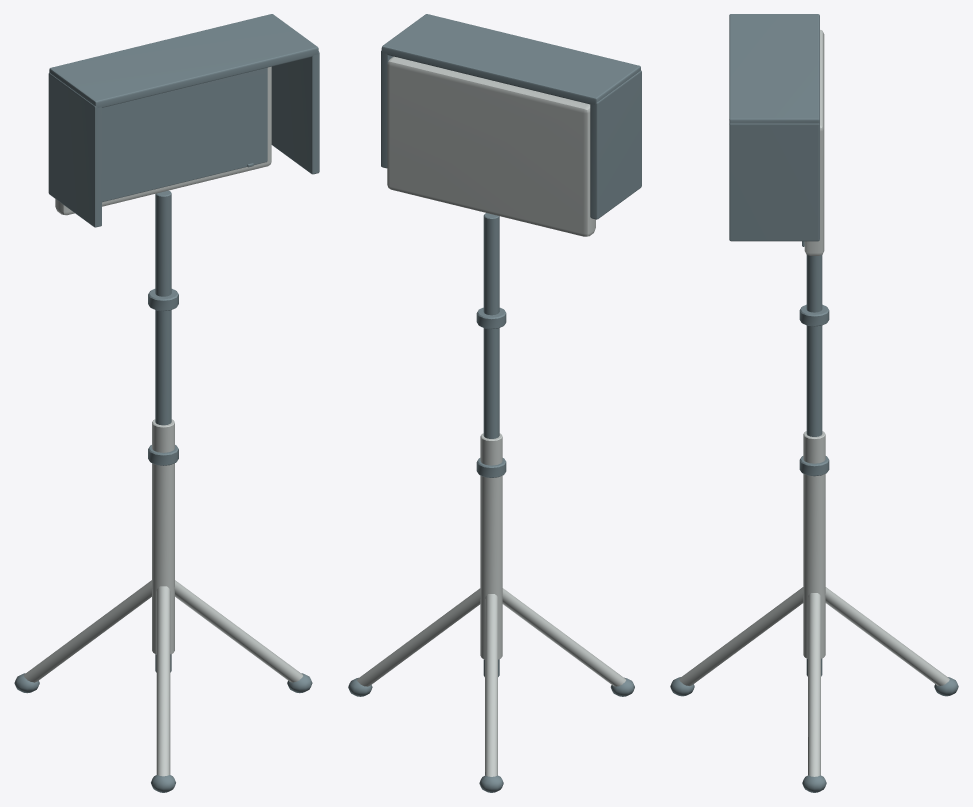
The model's file is field-monitor.glb.
3 renders of one model, left to right at view 1: azimuth 30°, elevation 25°; view 2: azimuth 150°, elevation 25°; view 3: azimuth 270°, elevation 25°, orthographic. The views are drawn at different scales.
Visible parts, largest first — view 1: monitor_screen, sun_hood_roof, sun_hood_side, sun_hood_side.001, lower_stand, telescoping_stand, tripod_leg_1, tripod_leg_0, tripod_leg_2, monitor_housing; view 2: monitor_housing, sun_hood_roof, sun_hood_side, lower_stand, telescoping_stand, tripod_leg_2, tripod_leg_1, tripod_leg_0, sun_hood_side.001; view 3: sun_hood_side.001, sun_hood_roof, lower_stand, telescoping_stand, tripod_leg_0, tripod_leg_1, tripod_leg_2, monitor_housing.
Part boxes in pixels (<box>): monitor_screen: <box>102,67,267,202</box>; sun_hood_roof: <box>49,14,318,107</box>; sun_hood_side: <box>48,72,101,227</box>; sun_hood_side.001: <box>271,51,319,174</box>; lower_stand: <box>152,419,174,654</box>; telescoping_stand: <box>155,190,171,672</box>; tripod_leg_1: <box>156,586,170,776</box>; tripod_leg_0: <box>174,580,302,682</box>; tripod_leg_2: <box>24,580,152,682</box>; monitor_housing: <box>55,66,271,215</box>; monitor_housing: <box>387,56,595,236</box>; sun_hood_roof: <box>381,14,640,104</box>; sun_hood_side: <box>590,70,641,219</box>; lower_stand: <box>480,433,502,659</box>; telescoping_stand: <box>483,213,499,676</box>; tripod_leg_2: <box>485,594,497,776</box>; tripod_leg_1: <box>502,588,625,686</box>; tripod_leg_0: <box>357,588,480,686</box>; sun_hood_side.001: <box>381,50,393,168</box>; sun_hood_side.001: <box>729,123,819,241</box>; sun_hood_roof: <box>729,14,819,123</box>; lower_stand: <box>803,431,825,658</box>; telescoping_stand: <box>806,255,822,676</box>; tripod_leg_0: <box>808,593,820,776</box>; tripod_leg_1: <box>679,587,803,685</box>; tripod_leg_2: <box>825,587,949,685</box>; monitor_housing: <box>804,30,824,255</box>.
Bounding box in the file's own units: 0.8015 × 2.01 × 0.7955.
